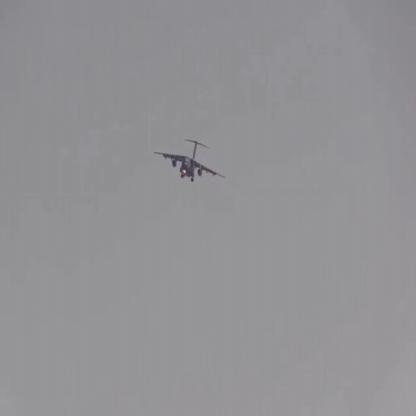CIV_Plane: (149, 136, 231, 190)
